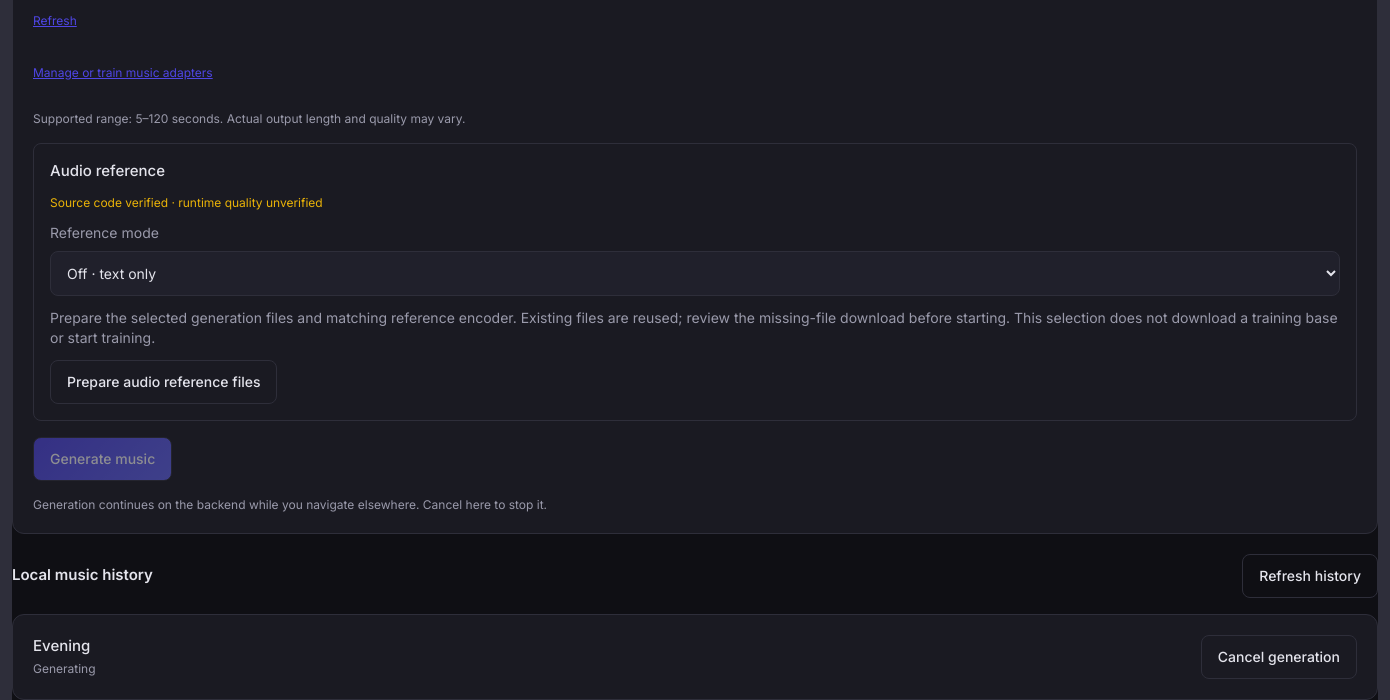
Test: cancels an owned running job and stops polling when it becomes terminal
(page scrolled)
What coordinates should you click on to do the following:
click the button "Cancel generation"
I would click on:
 (1279, 656)
Its box is x1=1201 y1=634 x2=1357 y2=678.
Wait 5000 ms
(page scrolled)
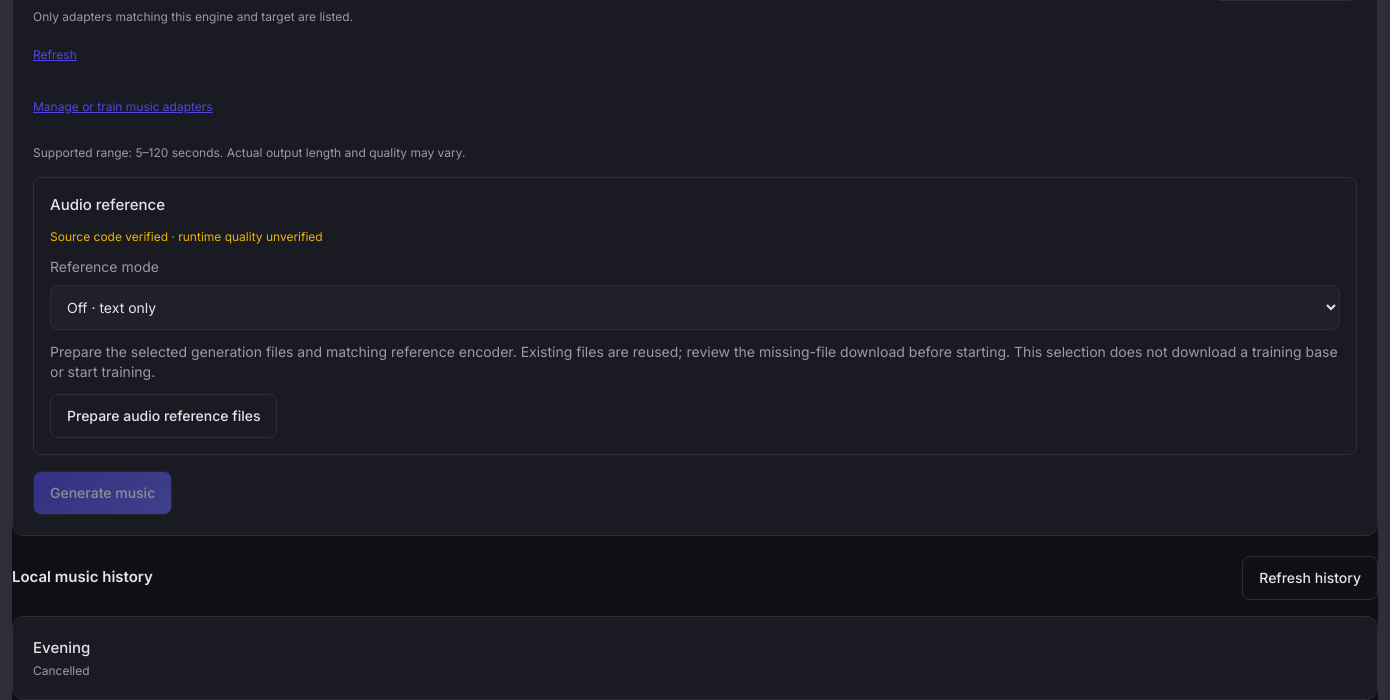
Expected: the text "Cancelled" is shown, x1=33 y1=663 x2=90 y2=679
